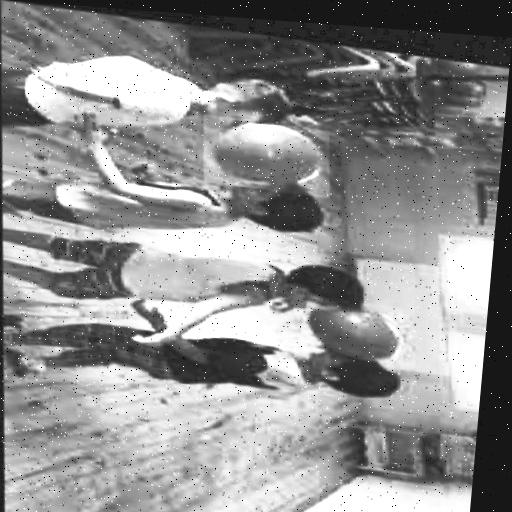balloon: (195, 111, 332, 195), (290, 290, 403, 365)
